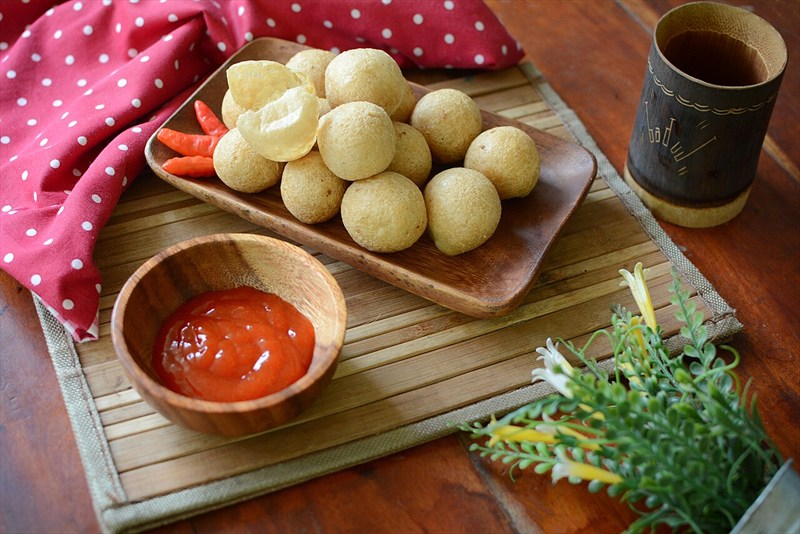Tahu Goreng: (16, 21, 663, 446)
